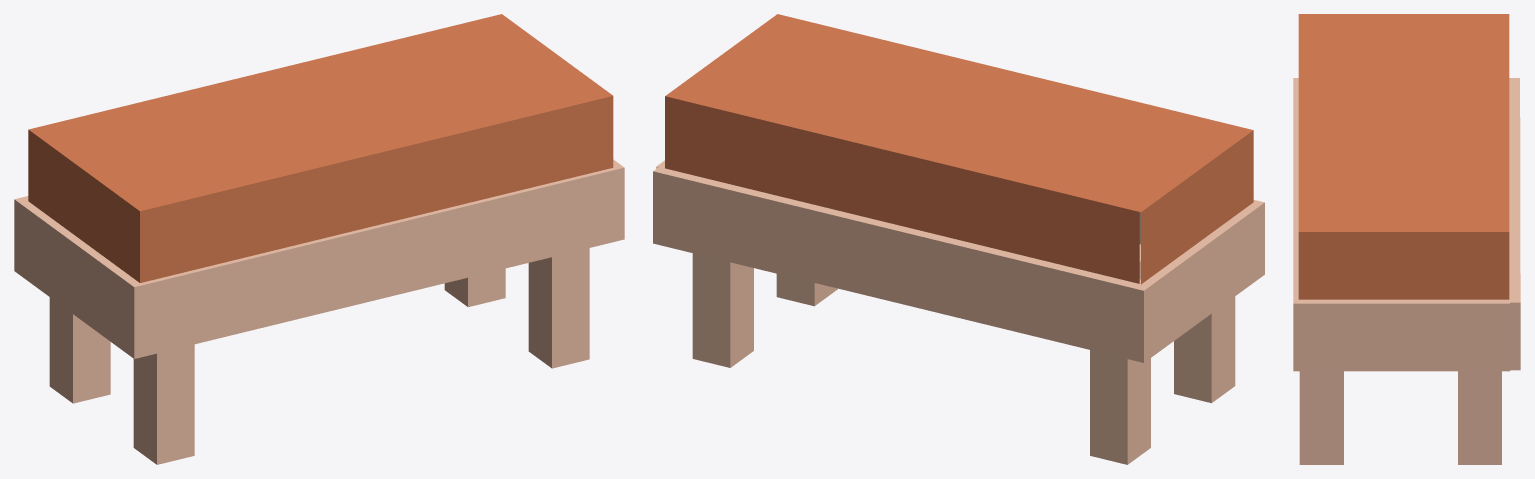
Rendered from Bench.glb.
The picture shows the model from 3 angles, left to right: view 1: azimuth 30°, elevation 25°; view 2: azimuth 150°, elevation 25°; view 3: azimuth 270°, elevation 25°; orthographic projection. The views are drawn at different scales.
Parts seen in each view (by area): view 1: Cube.170; view 2: Cube.170; view 3: Cube.170.
Boxes of the visible parts, box(x1,y1,x2,y2) form: Cube.170: box(14, 14, 624, 464); Cube.170: box(653, 14, 1264, 464); Cube.170: box(1293, 14, 1520, 464).
Size of the model in its own units: 0.9073 by 0.4567 by 0.3857.
